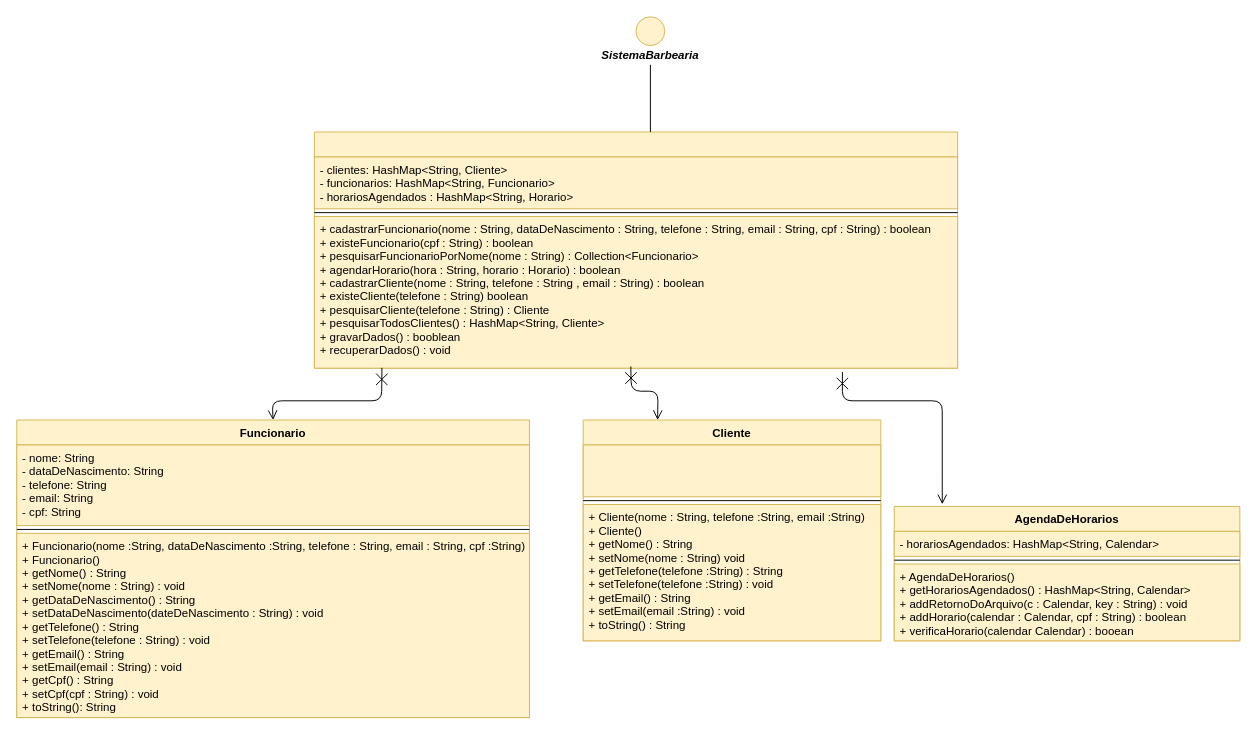
This 1257x737 diagram has some shape labels left out. The box of each missing label's shape, as (x1, y1, x2, y2) in pixels:
- nome: String - telefone: String - email: String: (582, 444, 881, 497)
SistemaBarbeariaCL: (313, 131, 958, 368)
